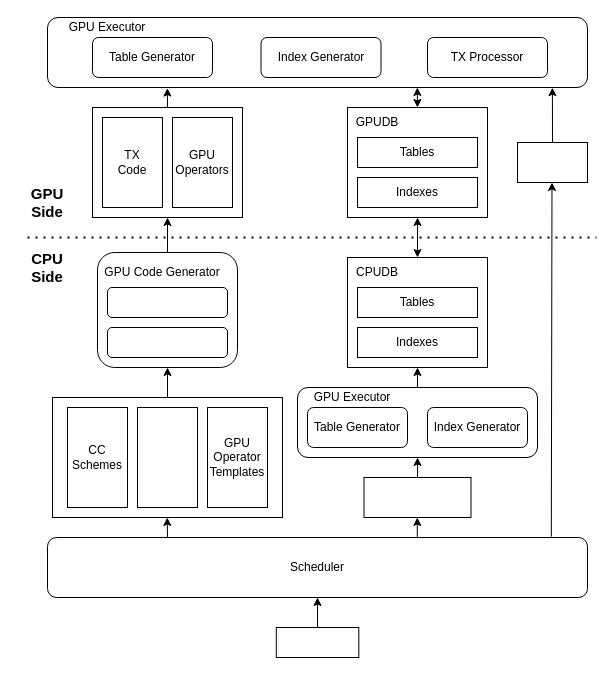
The diagram is 615 pixels wide and 675 high, and some of its shapes have lost their labels. The shapes that lost their labels are listed below. From the top down, each one's centre as x and y in pixels, then its label:
At point 552,162: "Batch Info".
At point 167,302: "NVRTC".
At point 167,342: "Code Constructor".
At point 167,457: "TX Templates".
At point 417,497: "CPU Operators".
At point 317,642: "Test Settings".
